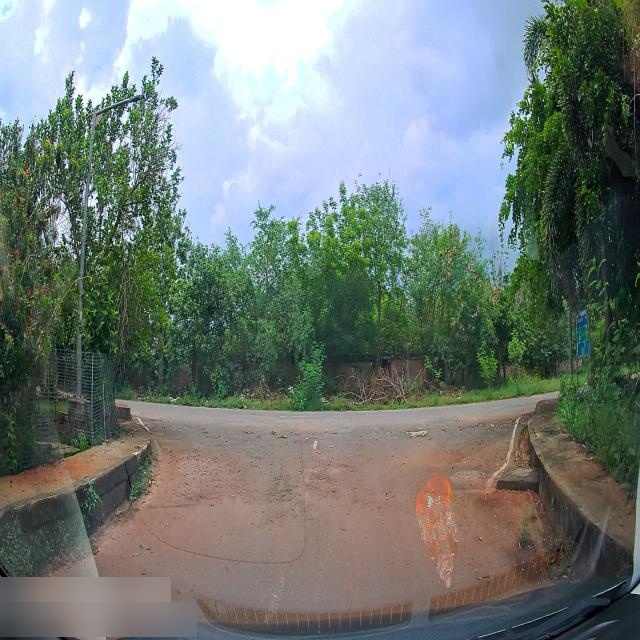pothole: (406, 424, 433, 438)
